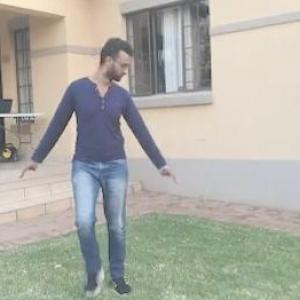land: (27, 46, 173, 293)
